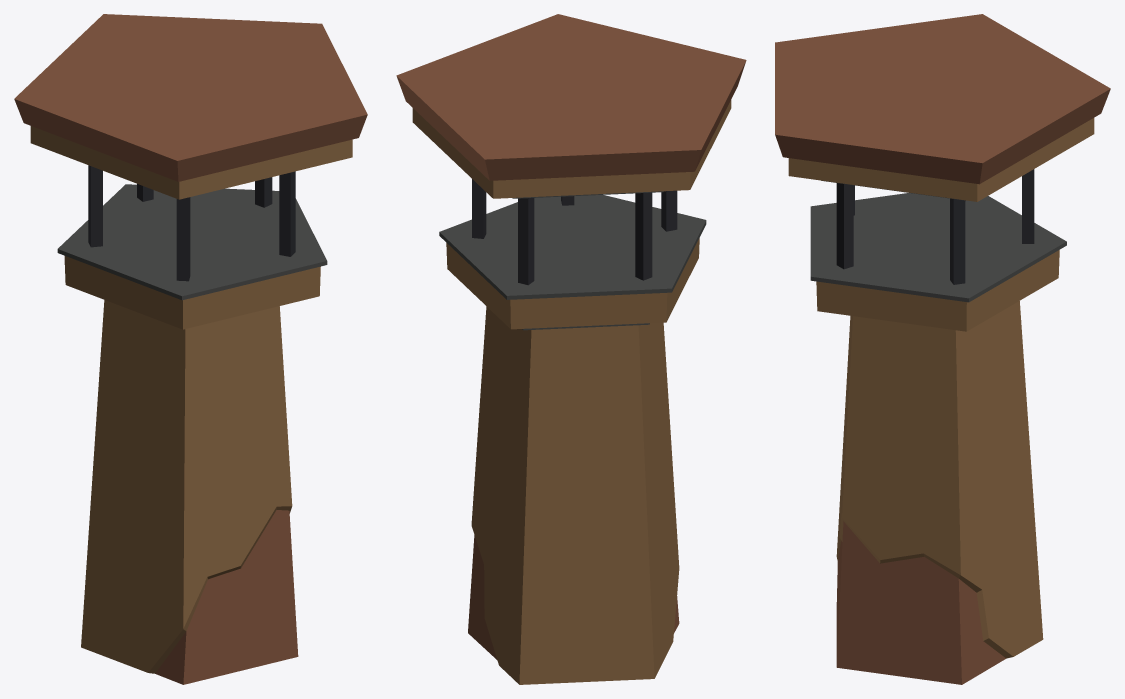
File: LPWarPack_SniperTowerA.fbx
3 views of the same model, side by side, from view 1: azimuth 30°, elevation 25°; view 2: azimuth 150°, elevation 25°; view 3: azimuth 270°, elevation 25° (orthographic).
Parts seen in each view (by area): view 1: SniperTowerA; view 2: SniperTowerA; view 3: SniperTowerA.
Part boxes in pixels (left/top/right/bottom): SniperTowerA: left=14, top=14, right=367, bottom=684; SniperTowerA: left=396, top=14, right=746, bottom=684; SniperTowerA: left=775, top=14, right=1110, bottom=684.
Bounding box in the file's own units: 642 × 1108 × 611.
